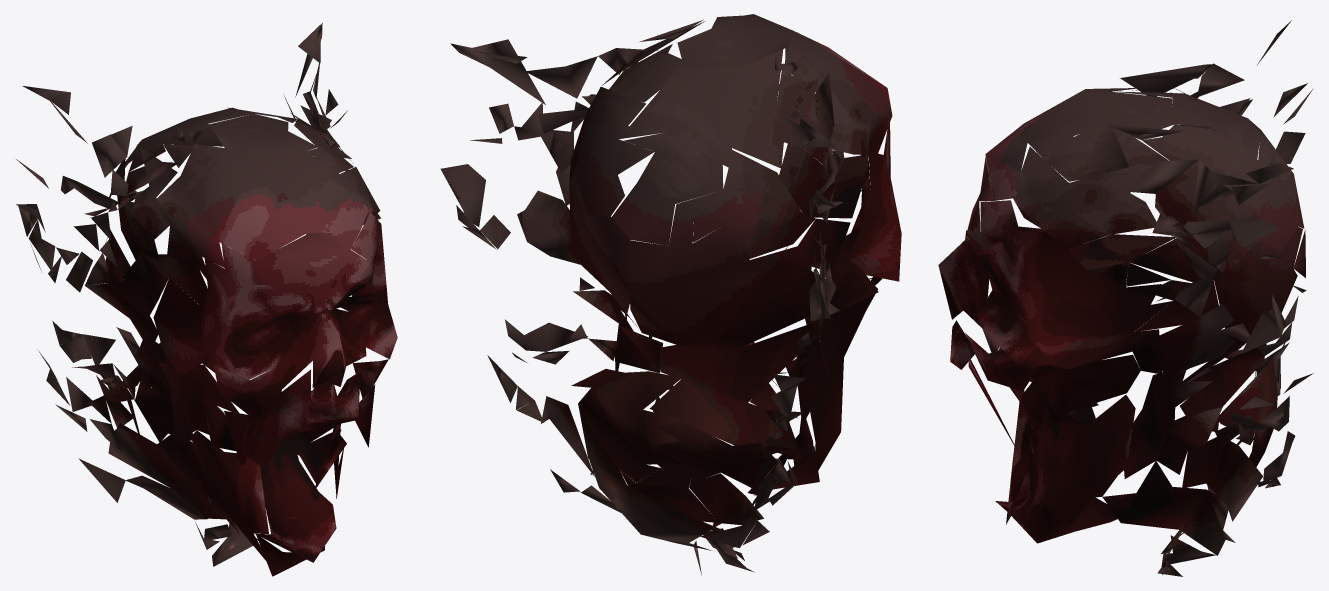
Rendered from alma.glb.
The picture shows the model from 3 angles, left to right: view 1: azimuth 30°, elevation 25°; view 2: azimuth 150°, elevation 25°; view 3: azimuth 270°, elevation 25°; orthographic projection. The views are drawn at different scales.
Visible parts, largest first — view 1: tripo_node_69e332c2-09d9-4d1a-8e7d-1b31f341deb6; view 2: tripo_node_69e332c2-09d9-4d1a-8e7d-1b31f341deb6; view 3: tripo_node_69e332c2-09d9-4d1a-8e7d-1b31f341deb6.
Boxes of the visible parts, <box> form: tripo_node_69e332c2-09d9-4d1a-8e7d-1b31f341deb6: <box>16,23,397,576</box>; tripo_node_69e332c2-09d9-4d1a-8e7d-1b31f341deb6: <box>440,14,901,575</box>; tripo_node_69e332c2-09d9-4d1a-8e7d-1b31f341deb6: <box>938,20,1313,576</box>.
Bounding box in the file's own units: 0.752 × 0.9965 × 0.6904.
Materials: 1 (1 with a texture image).
